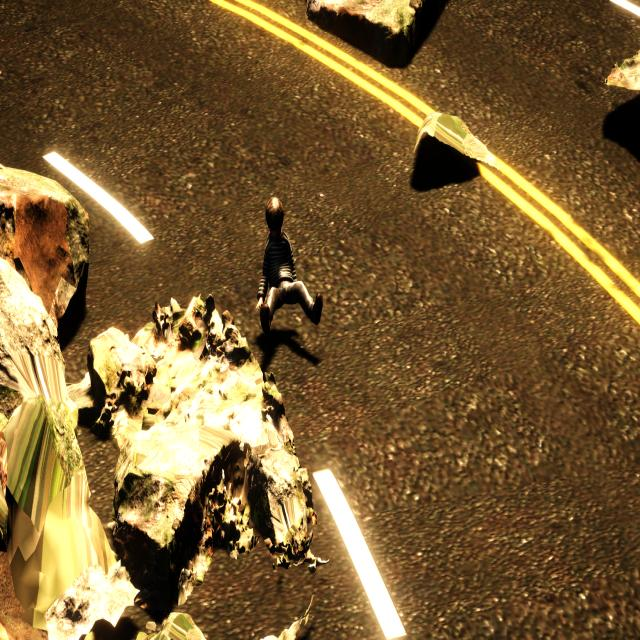Human: (251, 188, 325, 332)
